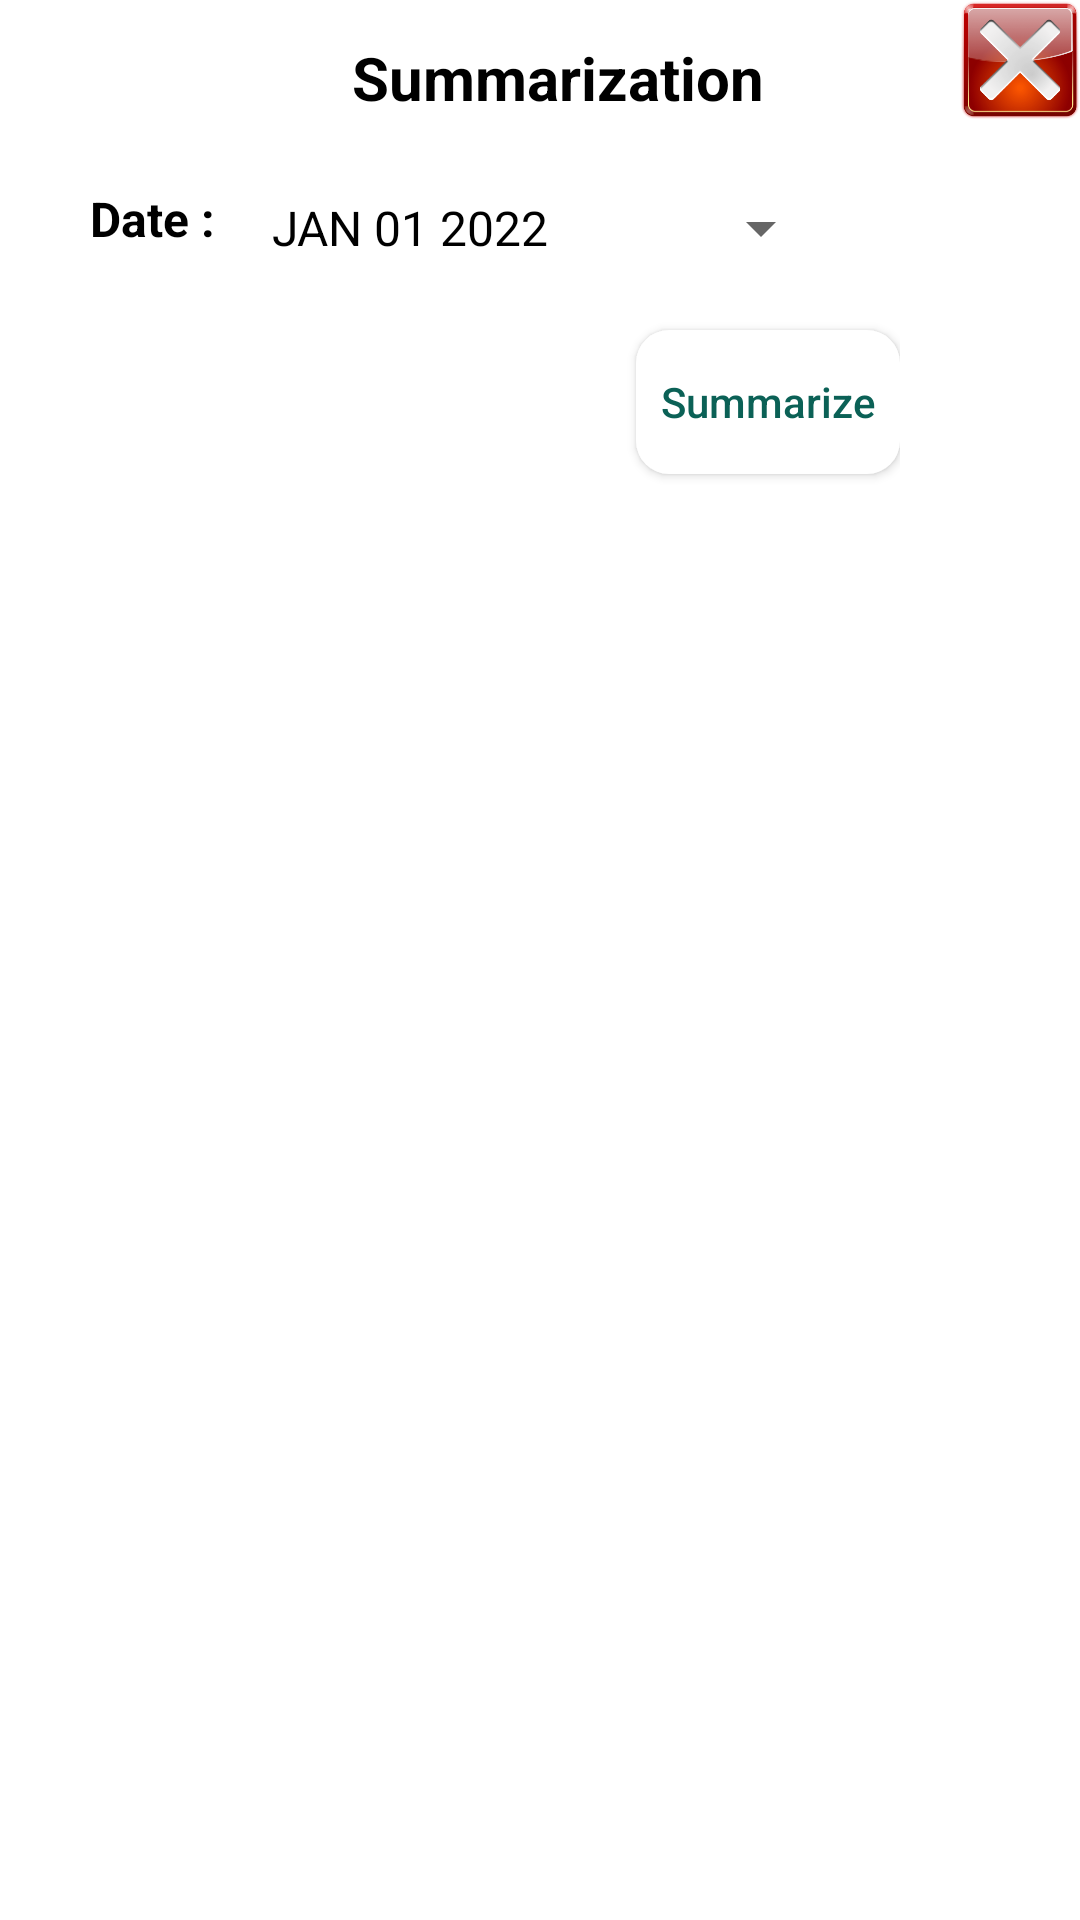

Point at icon controls on the screen. Image size 1080w x 1920h, points as [x,y].
close: [1020,60]
